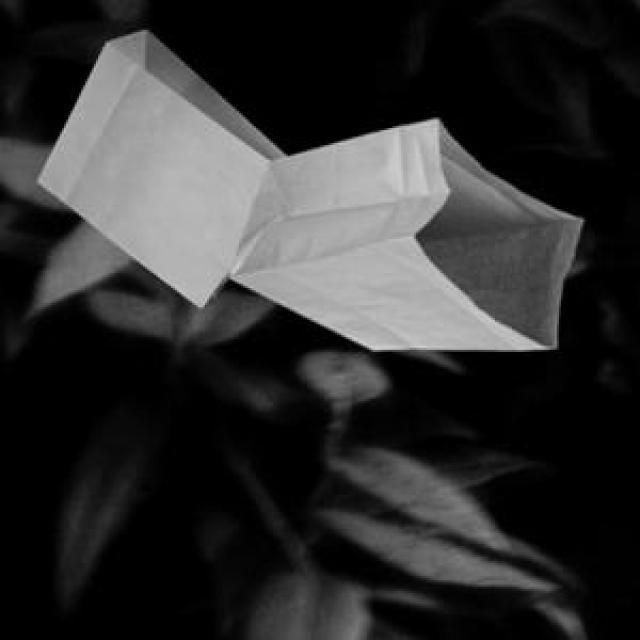paper: (226, 115, 578, 346), (34, 26, 284, 303)
